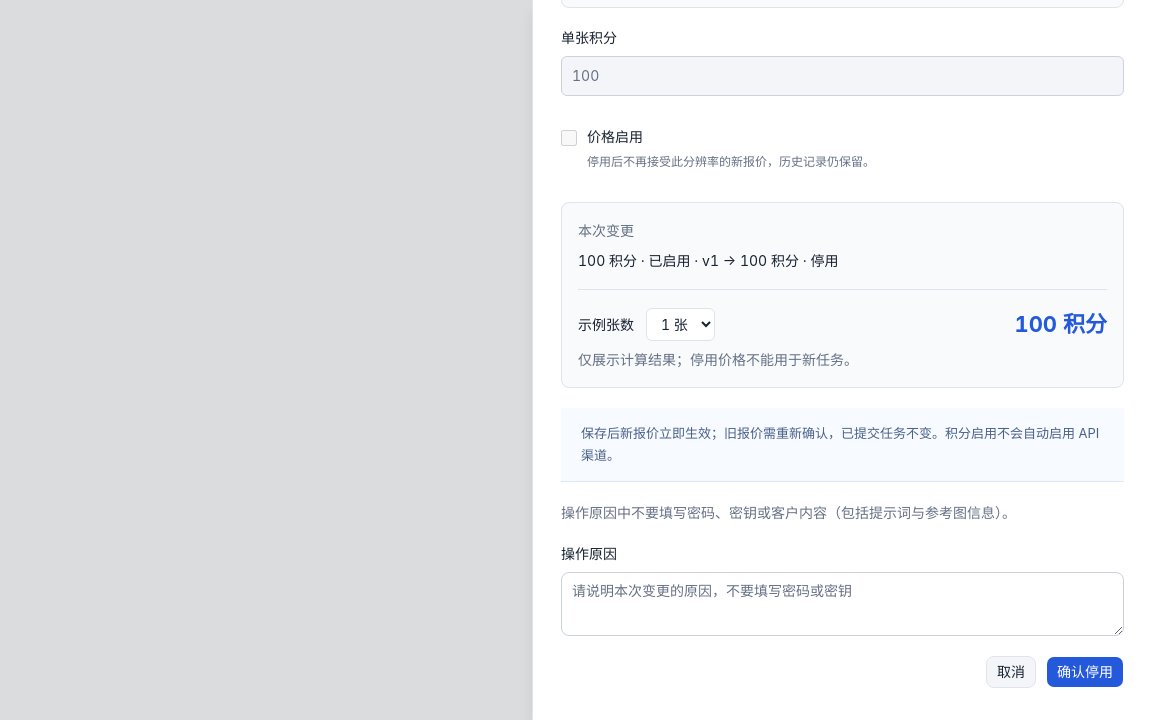
it: blocks a state-only conflict retry when fresh allowedActions no longer permit it
(page scrolled)
Type "测试价格状态变更" into the text box labelled "操作原因". click: point(842, 604)
box: [561, 572, 1124, 636]
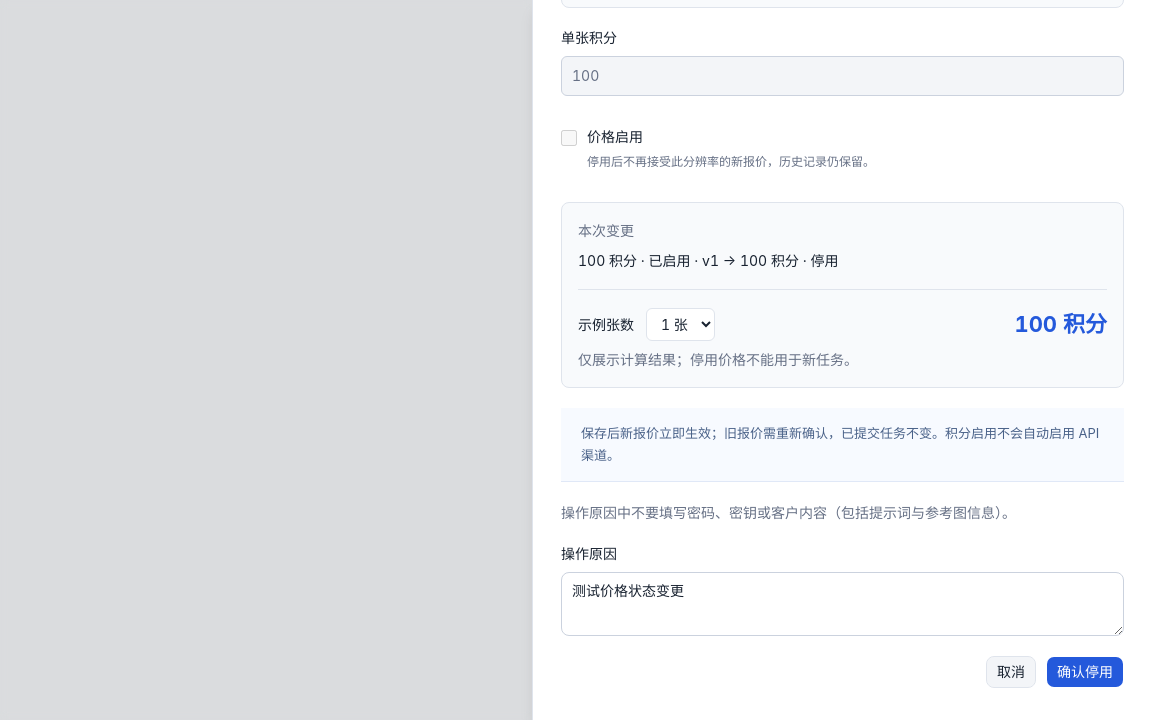
Click the button "确认停用". click: point(1085, 672)
box: [1046, 656, 1124, 688]
(page scrolled)
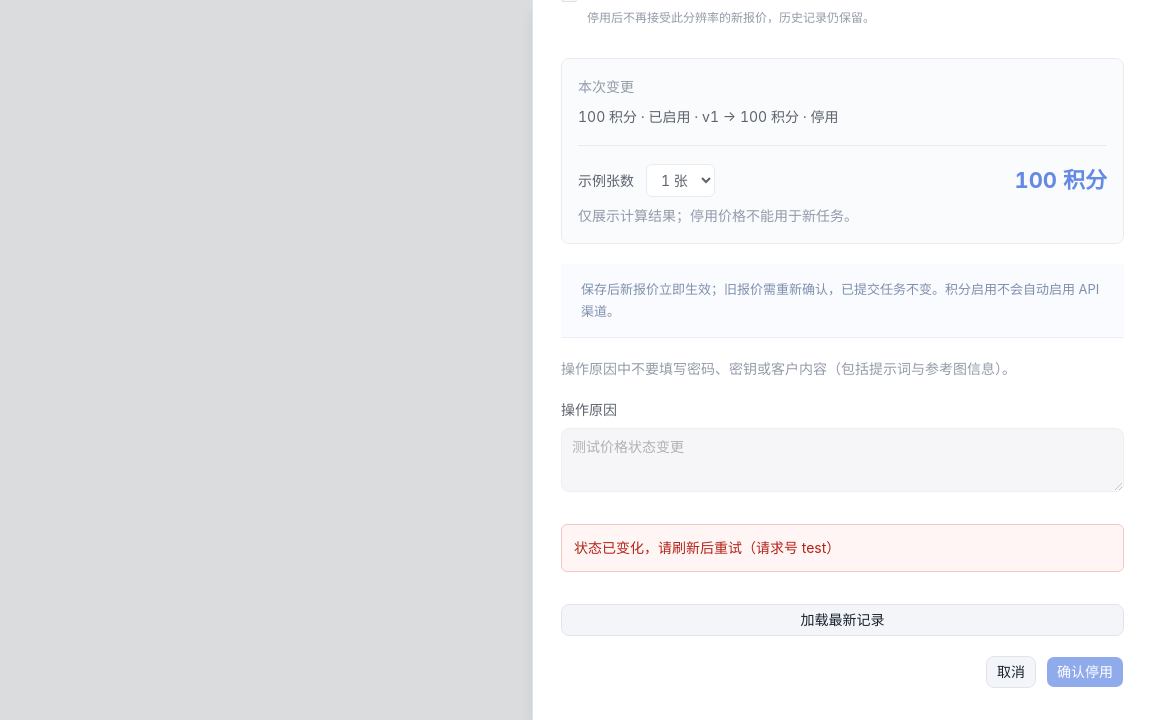
Click the button "加载最新记录". click: point(842, 620)
box: [561, 604, 1124, 636]
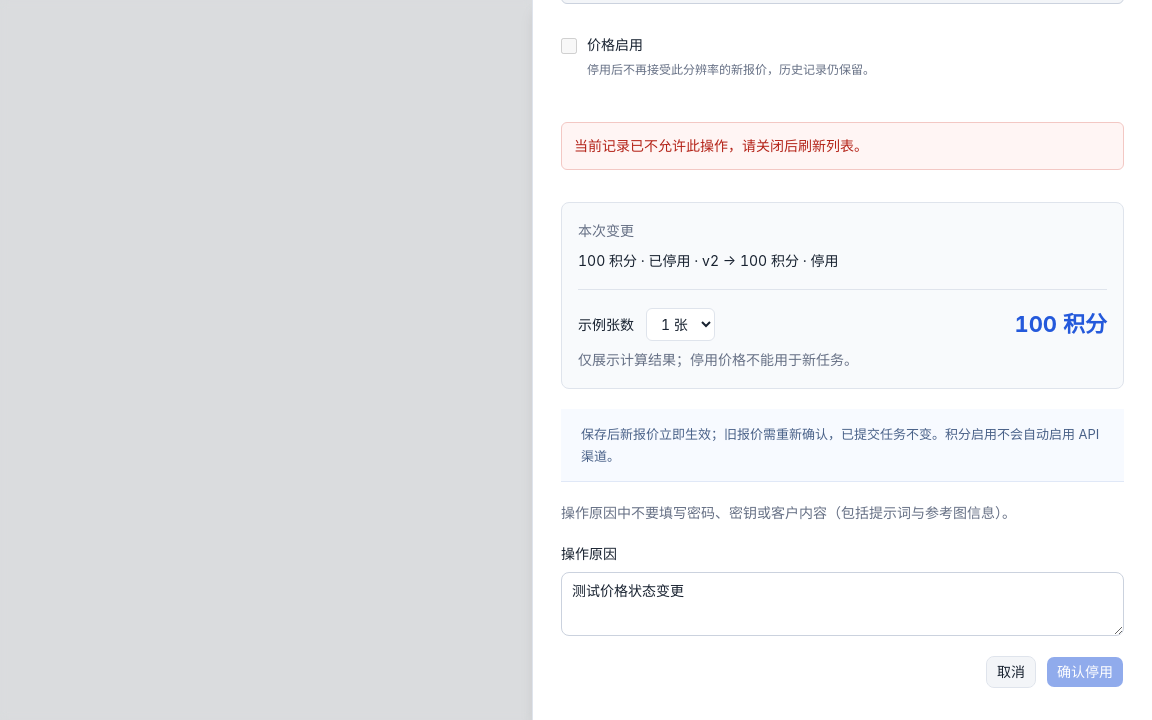
Expected: the text box labelled "操作原因" is enabled, [561, 572, 1124, 636]
Now the button "确认停用" is disabled, box [1046, 656, 1124, 688]
Now the text "当前记录已不允许此操作，请关闭后刷新列表。" is shown, box [561, 122, 1124, 170]
